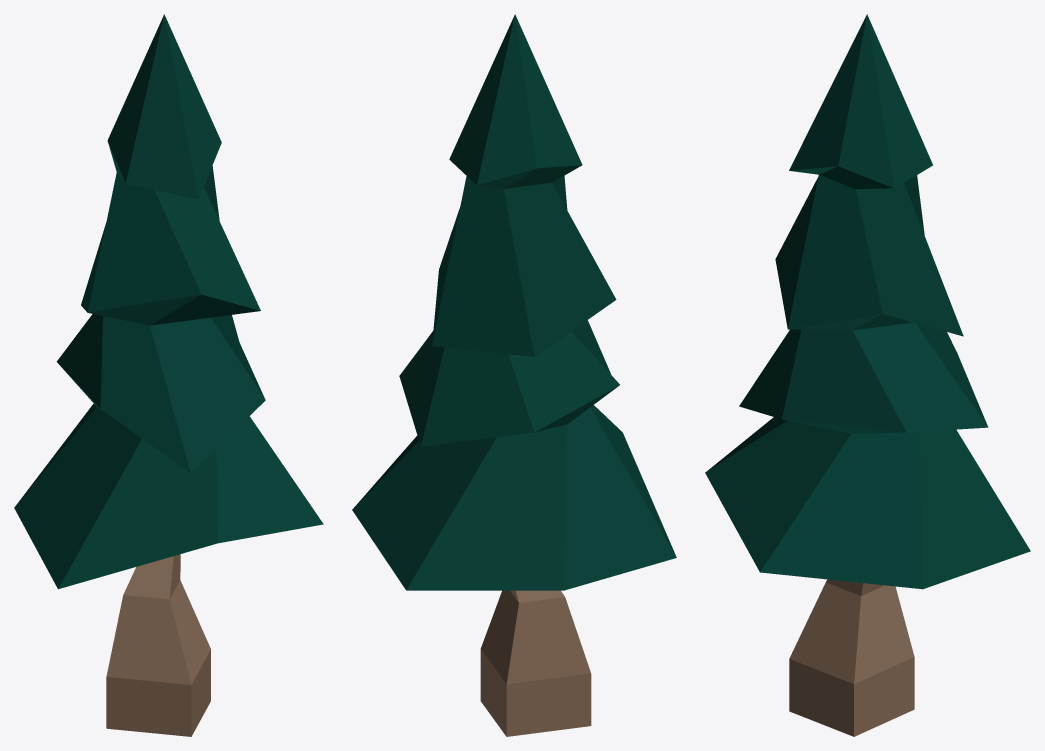
The model's file is Pine_07_Mesh.fbx.
3 views of the same model, side by side, from view 1: azimuth 30°, elevation 25°; view 2: azimuth 150°, elevation 25°; view 3: azimuth 270°, elevation 25° (orthographic).
Parts seen in each view (by area): view 1: Pine.006_LOD0; view 2: Pine.006_LOD0; view 3: Pine.006_LOD0.
Boxes of the visible parts, x1,y1,x2,y2 form: Pine.006_LOD0: (14,14,323,736); Pine.006_LOD0: (352,14,676,736); Pine.006_LOD0: (705,14,1030,736).
Size of what is drawn, in the model's own units: 12976 by 32238 by 13546.
